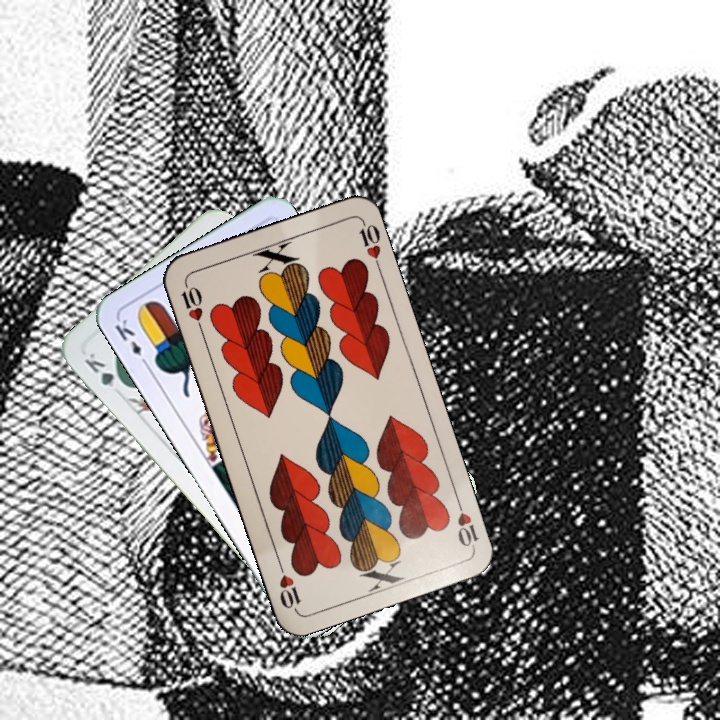EK: (110, 314, 152, 370)
GK: (80, 348, 130, 391)
H10: (451, 493, 481, 551), (177, 279, 207, 336)
